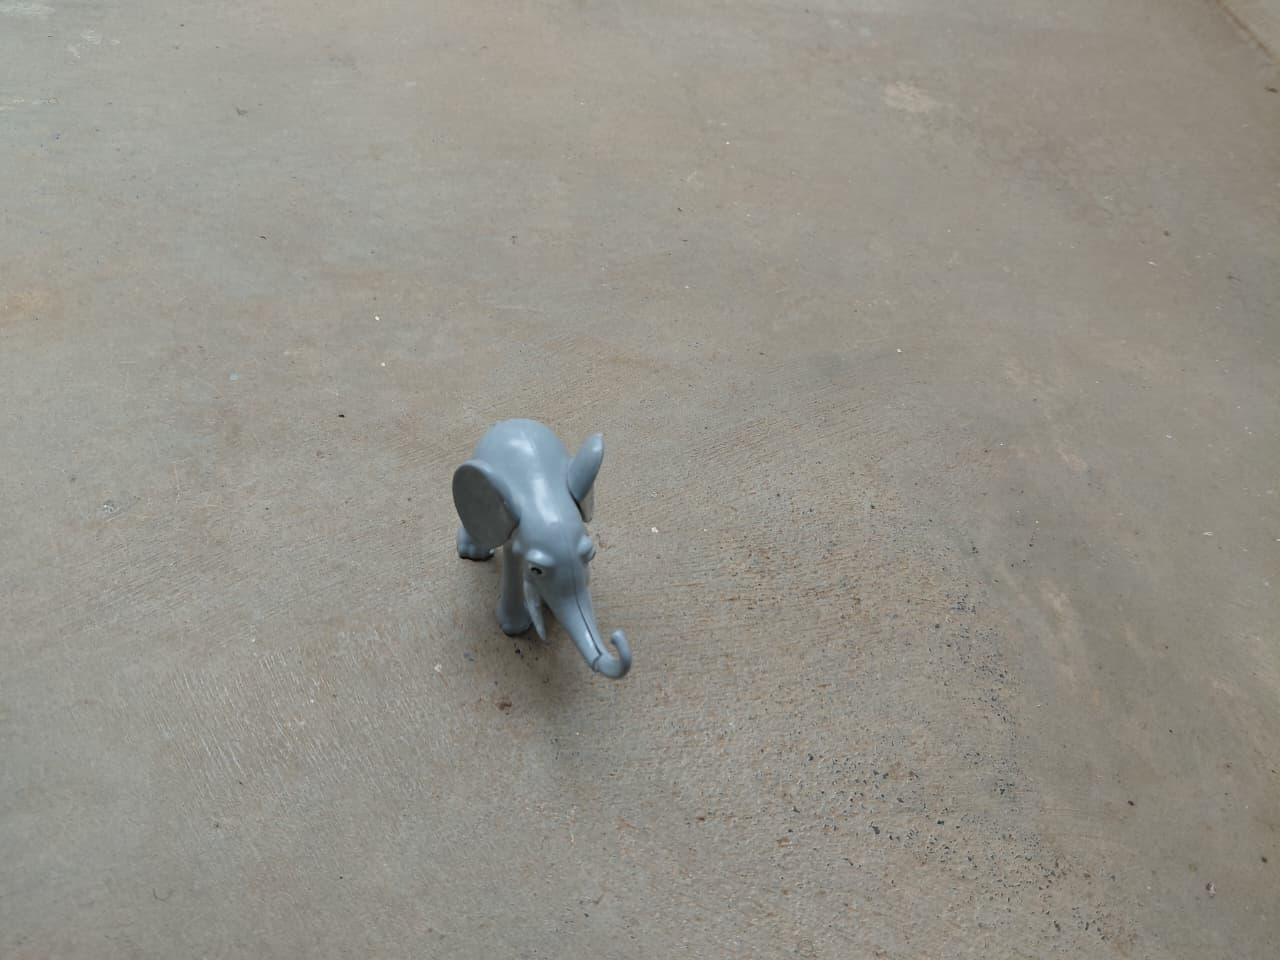elephant: (414, 402, 689, 681)
